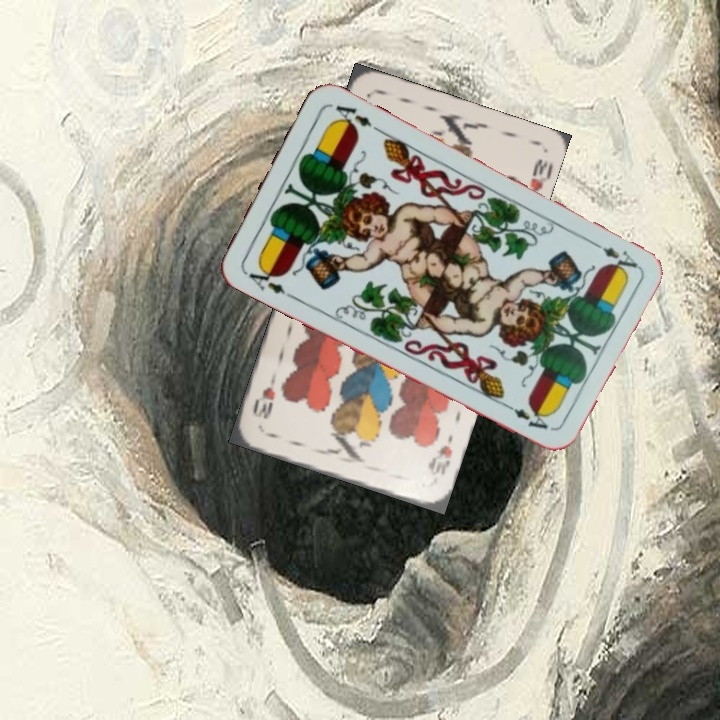EA: (241, 260, 296, 302), (586, 236, 641, 276)
H10: (423, 431, 456, 479)
